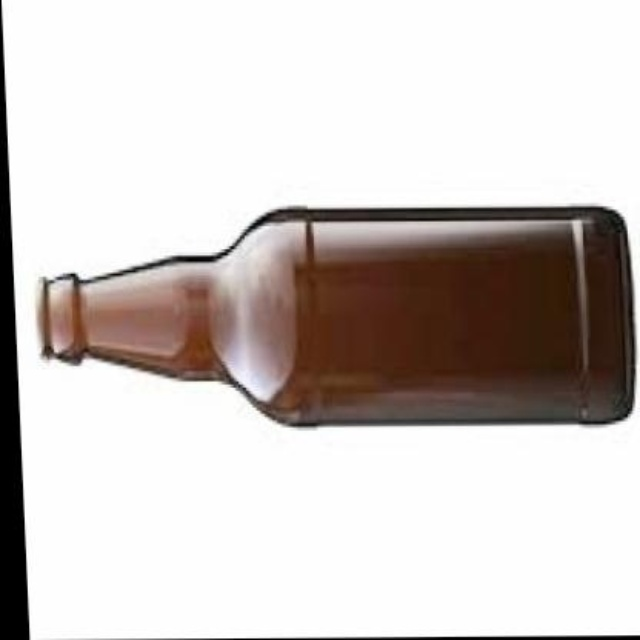trash: (38, 206, 634, 423)
